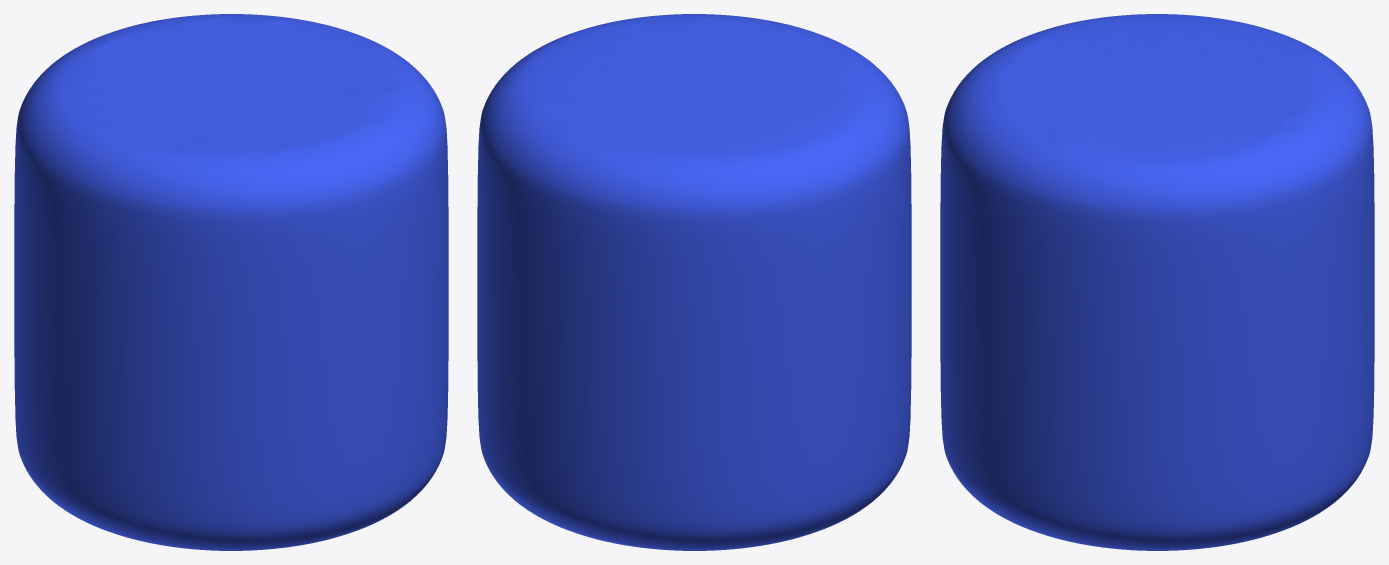
File: bodypart_blue.obj
The picture shows the model from 3 angles, left to right: view 1: azimuth 30°, elevation 25°; view 2: azimuth 150°, elevation 25°; view 3: azimuth 270°, elevation 25°; orthographic projection.
Parts seen in each view (by area): view 1: Cube_Cube_Material; view 2: Cube_Cube_Material; view 3: Cube_Cube_Material.
Part boxes in pixels (left/top/right/bottom): Cube_Cube_Material: left=14, top=14, right=448, bottom=550; Cube_Cube_Material: left=477, top=14, right=911, bottom=550; Cube_Cube_Material: left=940, top=14, right=1374, bottom=550.
Bounding box in the file's own units: 1.99 × 1.98 × 1.99.
